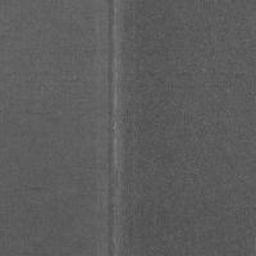Welding line: (106, 0, 118, 256)
